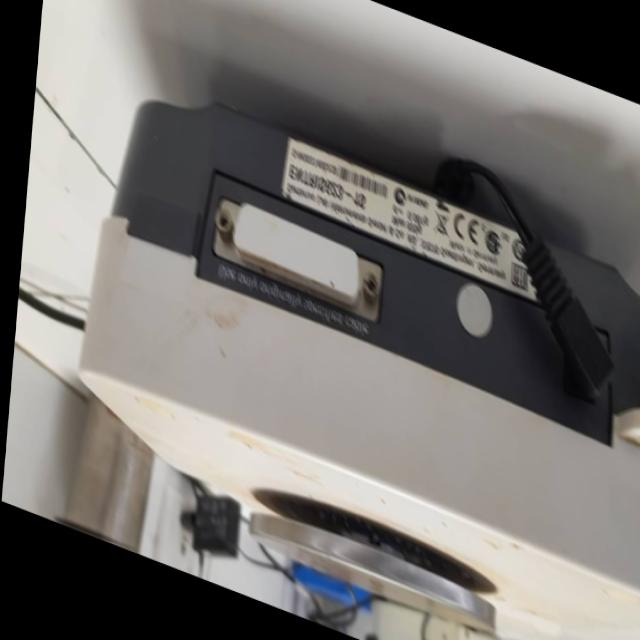Electronic balance: (43, 43, 640, 640)
